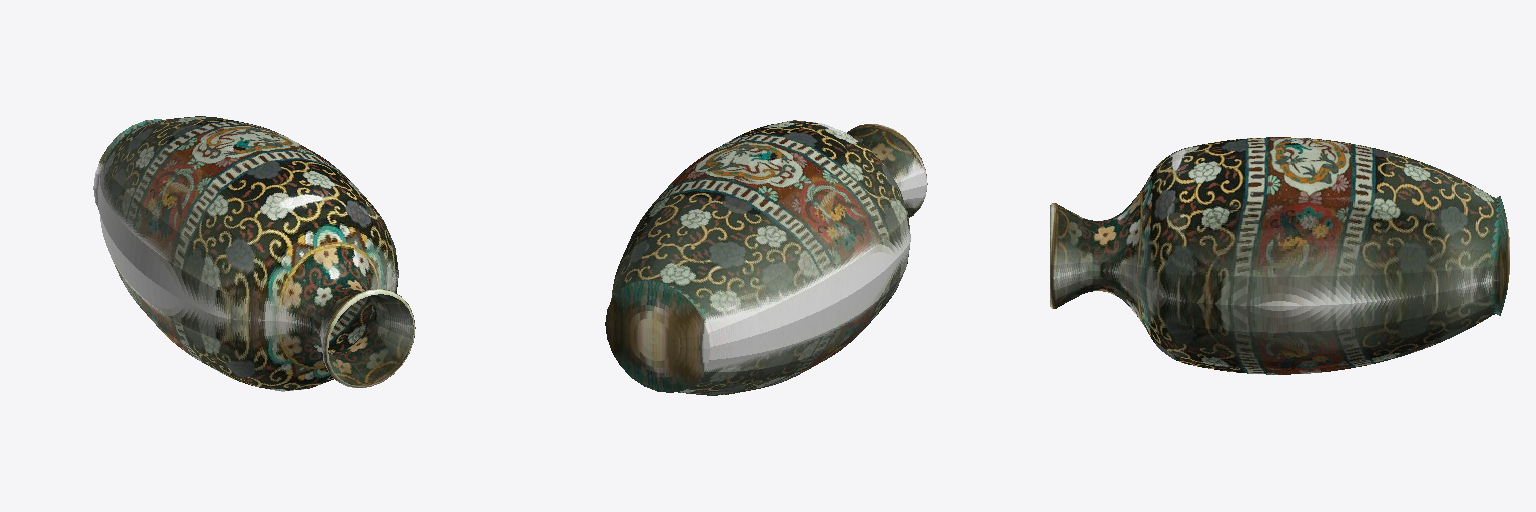
3 renders of one model, left to right at view 1: azimuth 30°, elevation 25°; view 2: azimuth 150°, elevation 25°; view 3: azimuth 270°, elevation 25°, orthographic.
Bounding box in the file's own units: 32.7 × 32.7 × 63.19.
Materials: 2 (1 with a texture image).